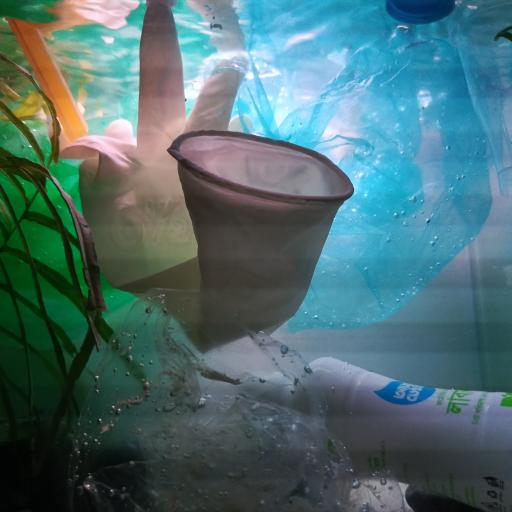bottle_cap: (387, 0, 454, 24)
glove: (47, 1, 356, 356)
plastic_bag: (202, 24, 494, 332), (70, 286, 402, 510), (0, 145, 139, 327)
plastic_bottle: (257, 356, 512, 512)
plastic_cup: (450, 0, 512, 195)
plastic_straw: (8, 17, 90, 139)
